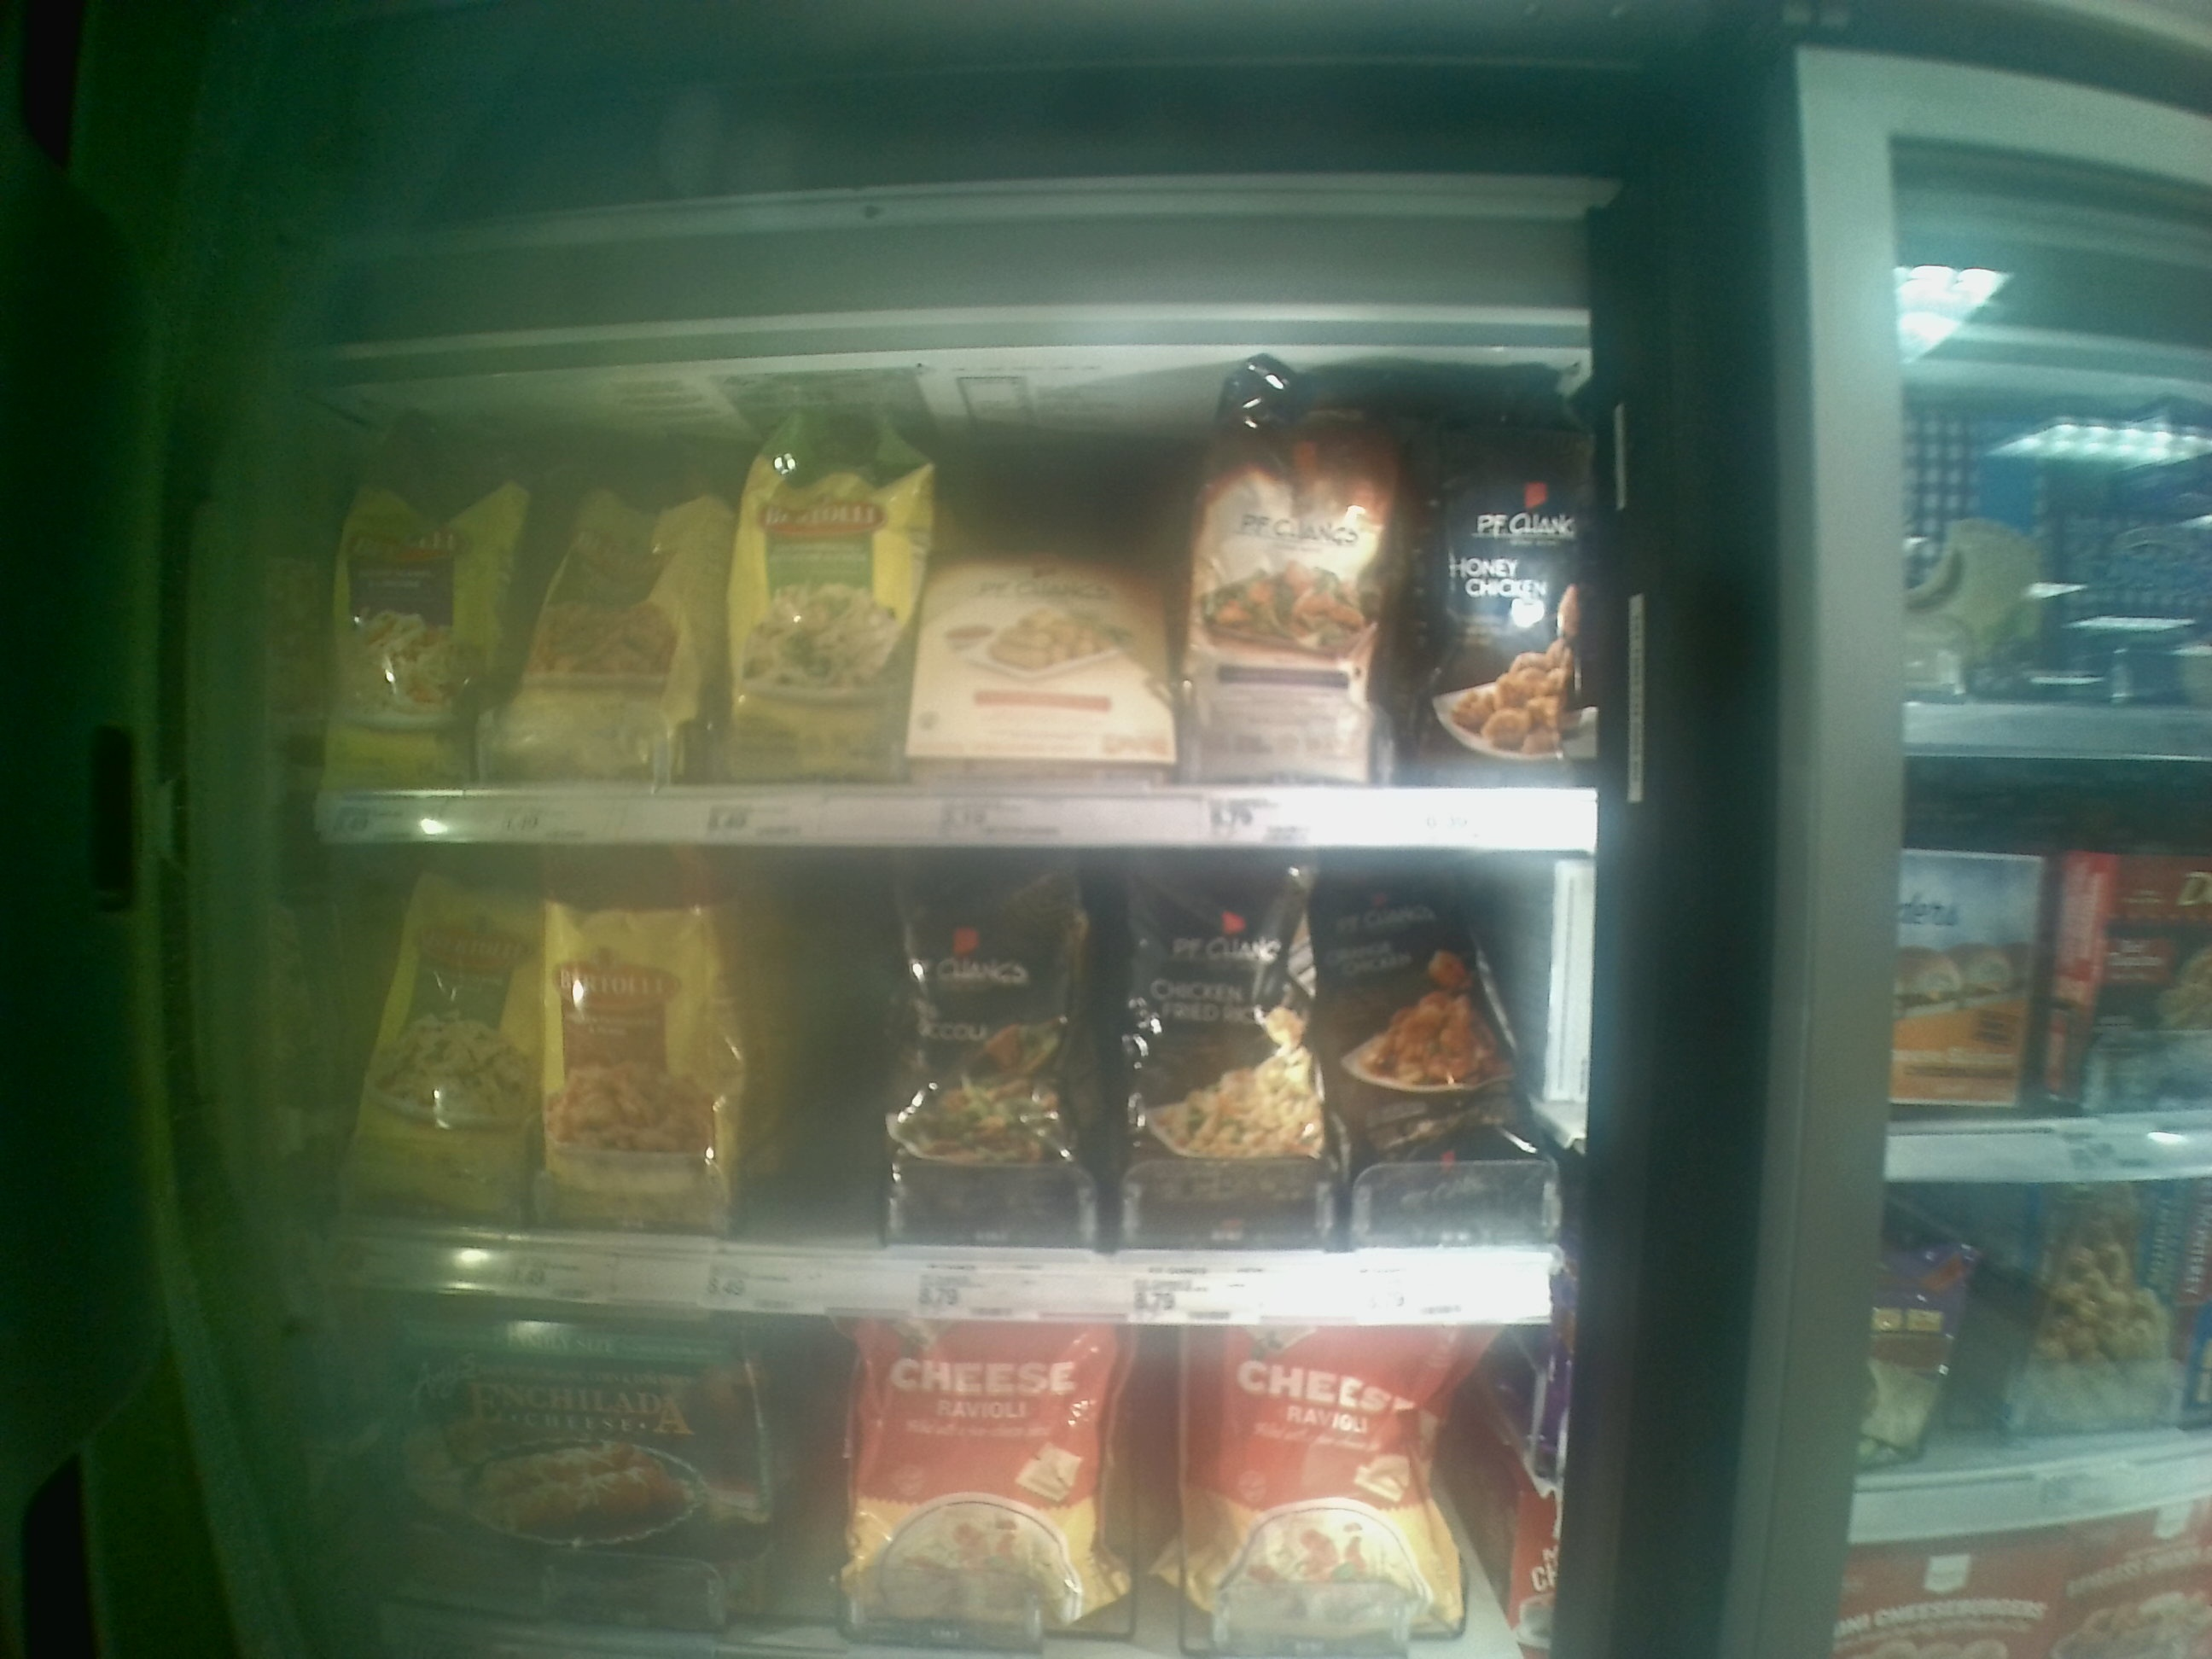shelf: (308, 220, 1590, 852), (320, 842, 1588, 1319)
